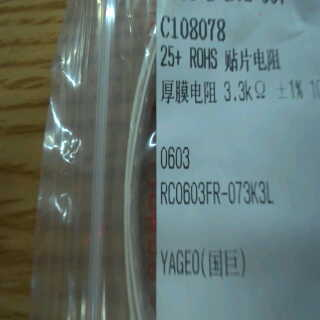3.3kO: (220, 80, 270, 105)
